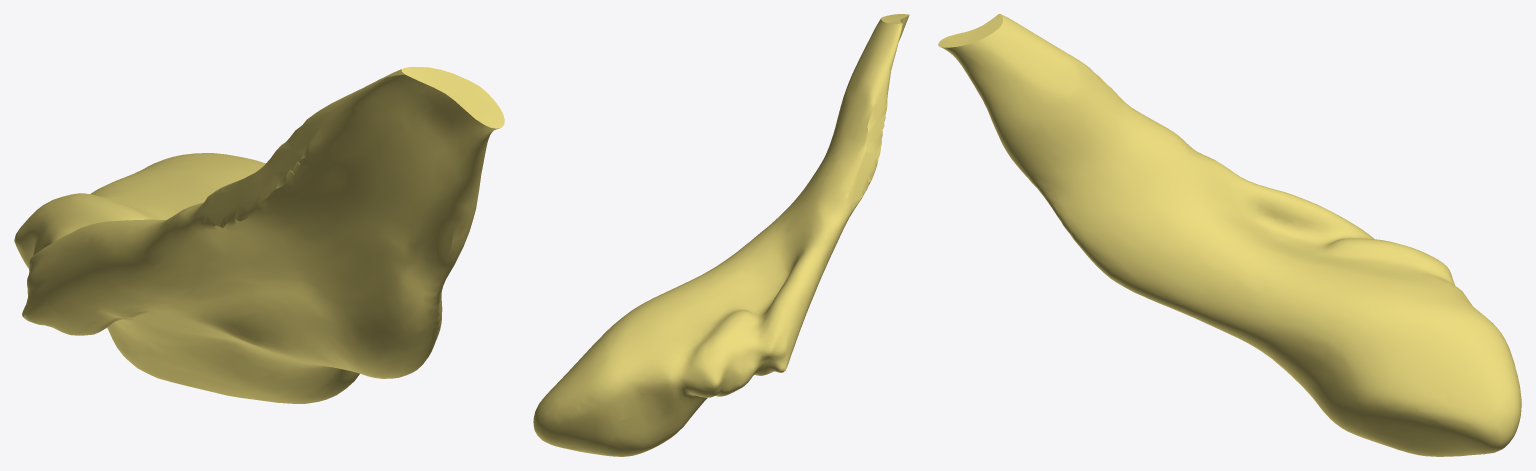
Rendered from superior-cerebellar-peduncle-l.glb.
3 renders of one model, left to right at view 1: azimuth 30°, elevation 25°; view 2: azimuth 150°, elevation 25°; view 3: azimuth 270°, elevation 25°, orthographic. The views are drawn at different scales.
Parts seen in each view (by area): view 1: Superior cerebellar peduncle.l; view 2: Superior cerebellar peduncle.l; view 3: Superior cerebellar peduncle.l.
Part boxes in pixels (<box>): Superior cerebellar peduncle.l: <box>14,67,504,403</box>; Superior cerebellar peduncle.l: <box>533,14,909,456</box>; Superior cerebellar peduncle.l: <box>938,14,1521,456</box>.
Bounding box in the file's own units: 0.0137 × 0.0213 × 0.03.
